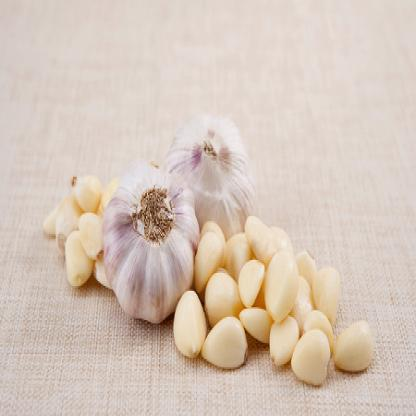garlic: (101, 172, 191, 318), (169, 116, 257, 220), (200, 310, 250, 382), (233, 304, 294, 361), (290, 322, 330, 392), (262, 254, 304, 318), (242, 214, 300, 260), (329, 322, 375, 377), (312, 254, 341, 326), (61, 232, 96, 284), (196, 222, 225, 282), (181, 289, 204, 359), (207, 273, 238, 319), (238, 264, 264, 314), (80, 218, 110, 258), (72, 175, 103, 213), (224, 224, 247, 273)
